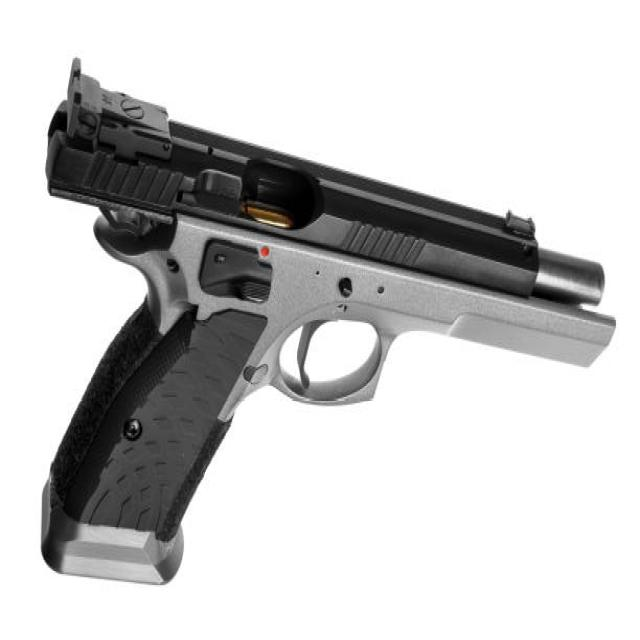pistol: (37, 45, 622, 593)
